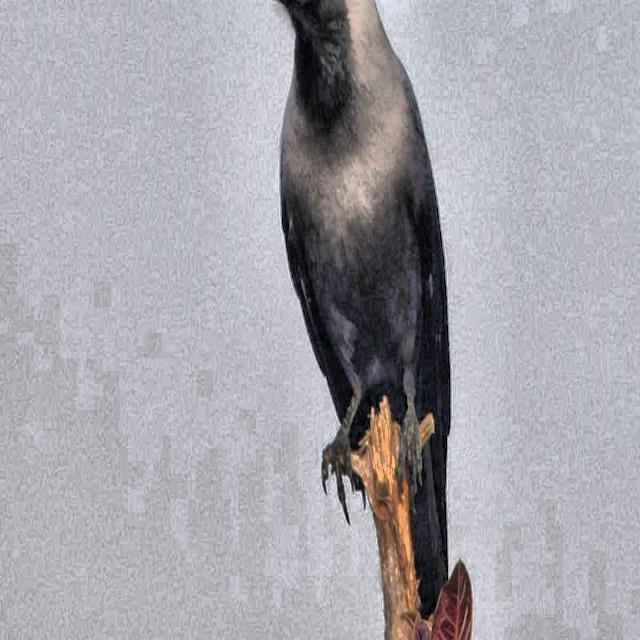crow: (261, 0, 493, 640)
